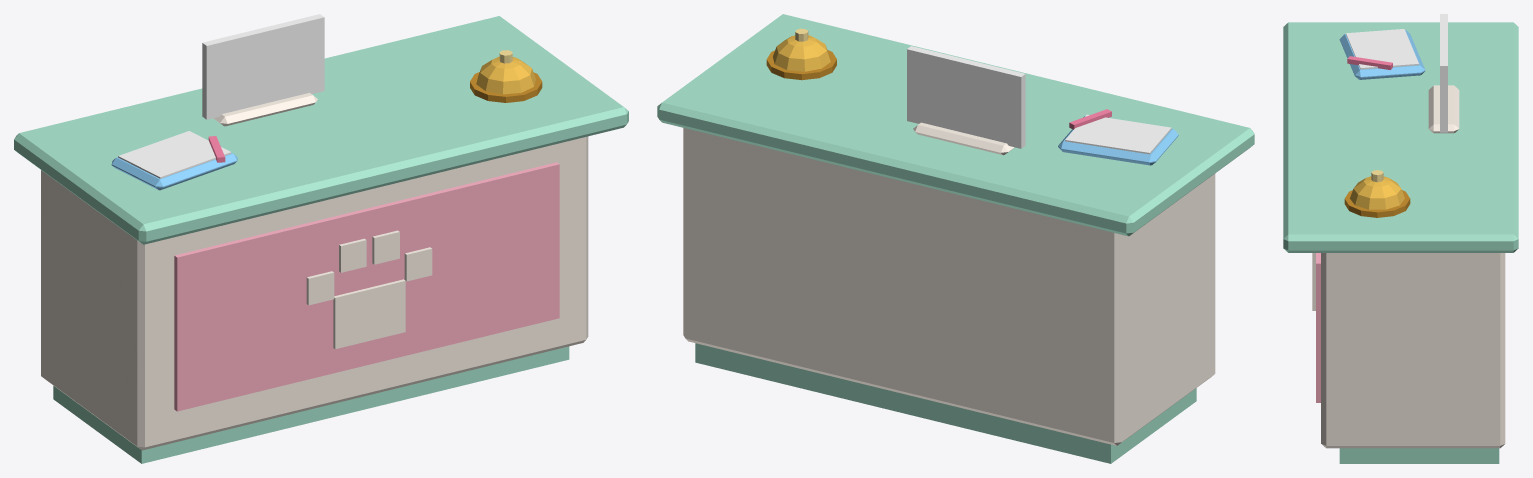
File: CleanACat_Station_FrontDesk.fbx
The picture shows the model from 3 angles, left to right: view 1: azimuth 30°, elevation 25°; view 2: azimuth 150°, elevation 25°; view 3: azimuth 270°, elevation 25°; orthographic projection. The views are drawn at different scales.
Parts seen in each view (by area): view 1: CleanACat_Station_FrontDesk, CleanACat_Station_FrontDesk_Screen; view 2: CleanACat_Station_FrontDesk, CleanACat_Station_FrontDesk_Screen; view 3: CleanACat_Station_FrontDesk, CleanACat_Station_FrontDesk_Screen.
Boxes of the visible parts, bbox=[...] form: CleanACat_Station_FrontDesk: bbox=[14, 16, 628, 463]; CleanACat_Station_FrontDesk_Screen: bbox=[202, 14, 324, 119]; CleanACat_Station_FrontDesk: bbox=[657, 14, 1254, 463]; CleanACat_Station_FrontDesk_Screen: bbox=[907, 46, 1025, 148]; CleanACat_Station_FrontDesk: bbox=[1283, 22, 1518, 463]; CleanACat_Station_FrontDesk_Screen: bbox=[1440, 14, 1447, 132].
Size of the model in its own units: 5 by 3.39 by 2.3.
1 material, 1 textured.
